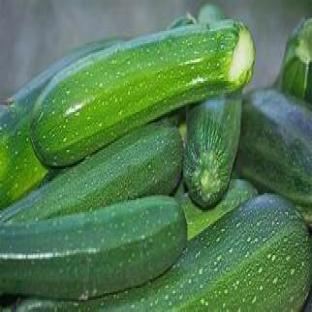Zucchini: (18, 195, 311, 311), (32, 21, 254, 165), (0, 40, 116, 208), (0, 197, 187, 299), (0, 125, 183, 222), (237, 90, 311, 206), (184, 95, 241, 208), (178, 180, 256, 239), (280, 18, 311, 103), (198, 4, 224, 25), (169, 13, 196, 29), (296, 206, 311, 229), (304, 290, 311, 311)
